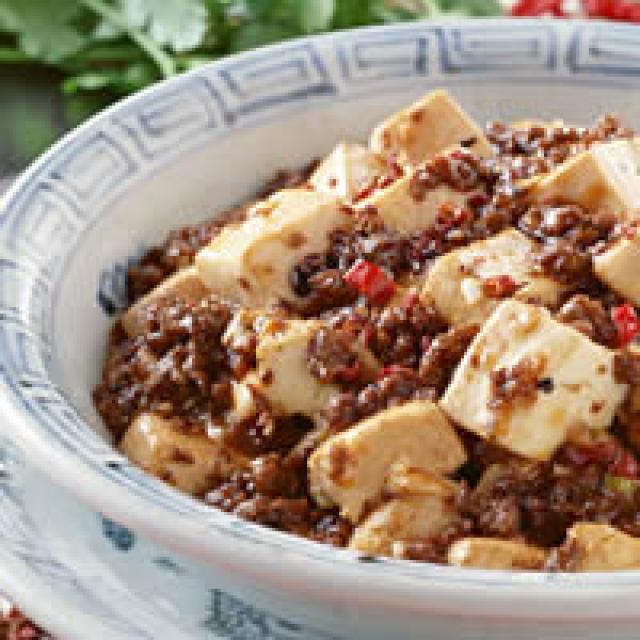豆腐料理: (0, 16, 640, 640)
